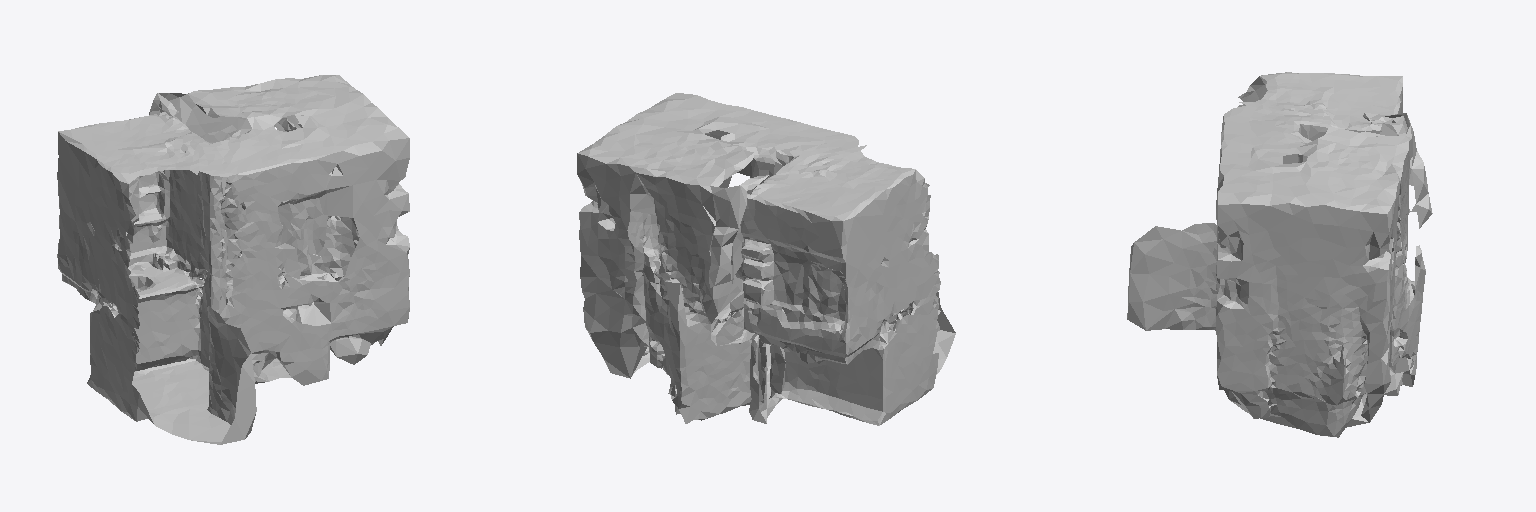
File: Beaty.Bathroom.obj
3 views of the same model, side by side, from view 1: azimuth 30°, elevation 25°; view 2: azimuth 150°, elevation 25°; view 3: azimuth 270°, elevation 25° (orthographic).
Parts seen in each view (by area): view 1: mesh_simple_rotated_0; view 2: mesh_simple_rotated_0; view 3: mesh_simple_rotated_0.
Boxes of the visible parts, x1=… form: mesh_simple_rotated_0: x1=57, y1=75, x2=409, y2=444; mesh_simple_rotated_0: x1=577, y1=93, x2=955, y2=425; mesh_simple_rotated_0: x1=1127, y1=72, x2=1432, y2=437.
Size of the model in its own units: 2.93 by 2.42 by 2.66.